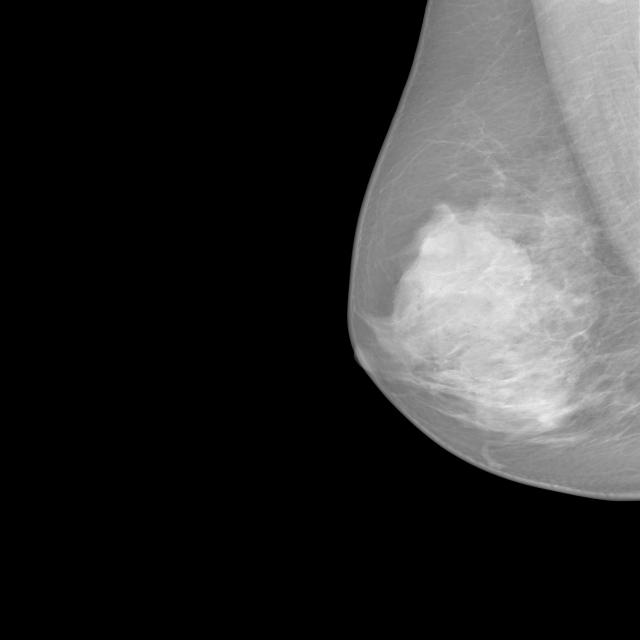Mass_1: (366, 192, 562, 356)
